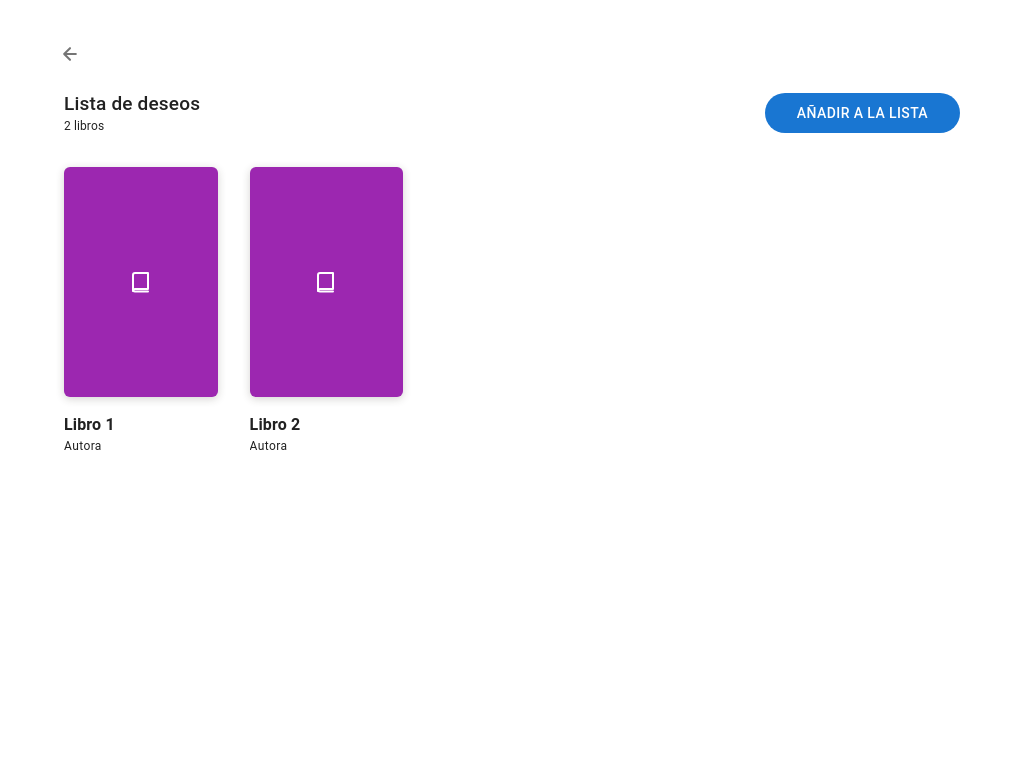
Given the wishlist page › When the user removes a book from the list › Then the sheet closes and a notice confirms it
Click the button with aria-label "Libro 1, Autora".
click(141, 312)  # box [64, 167, 218, 457]
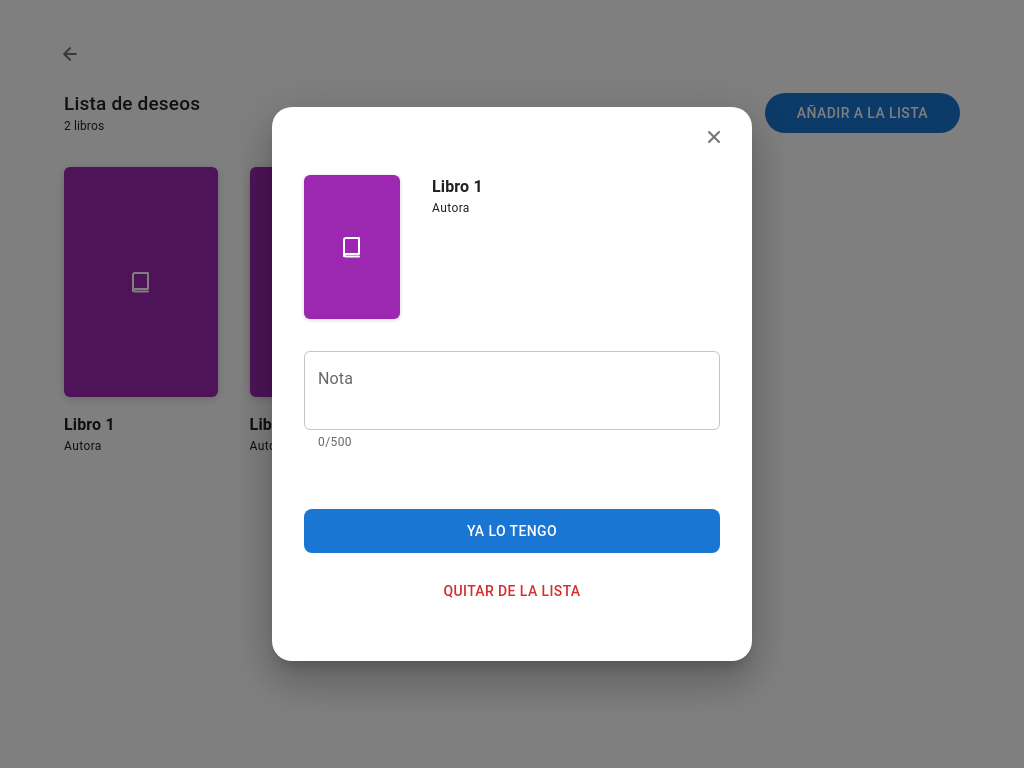
Click the button "Quitar de la lista".
click(512, 591)  # box [304, 569, 720, 613]
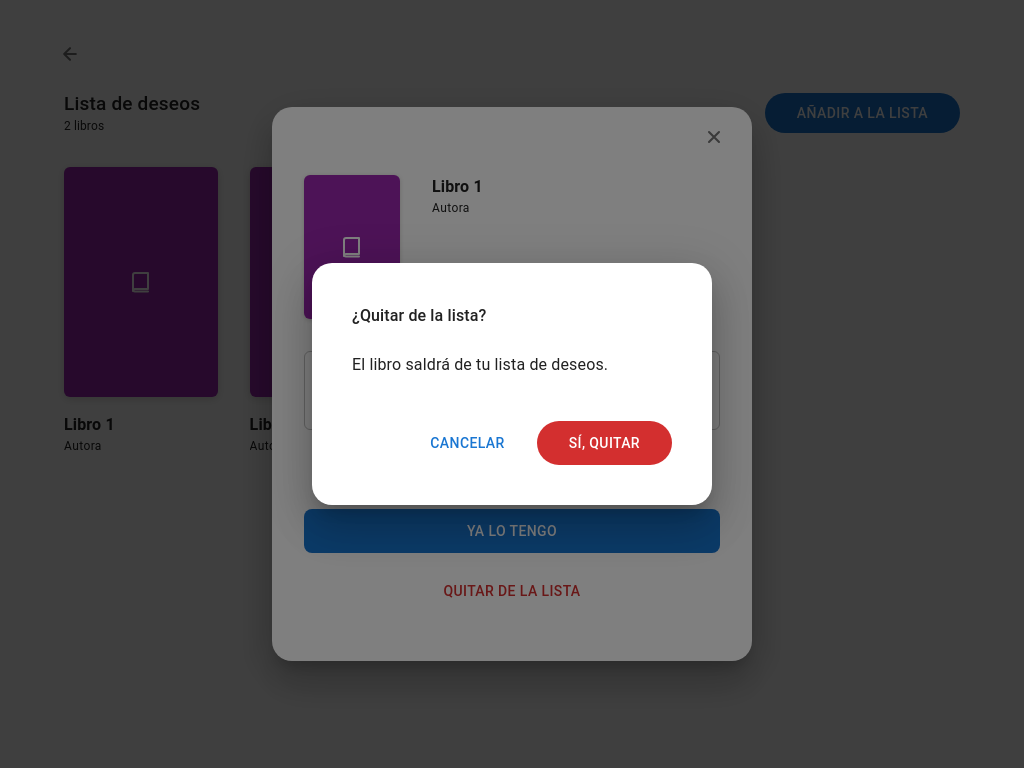
Click the button "Sí, quitar".
click(604, 443)  # box [537, 421, 672, 465]
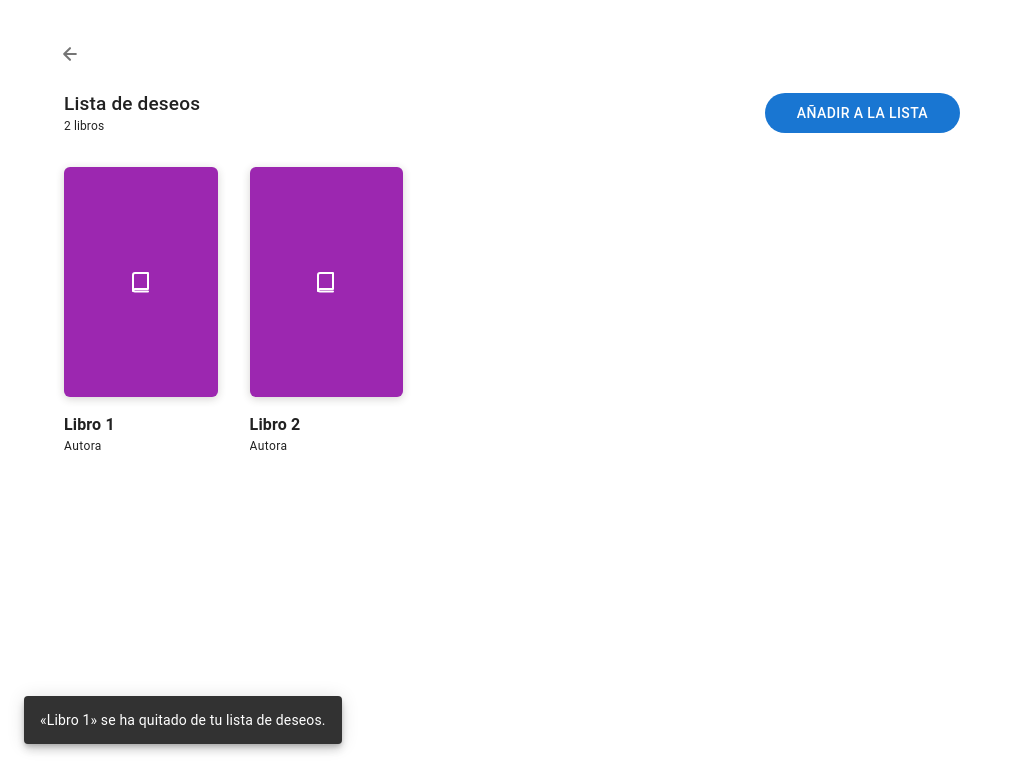
Now the text "«Libro 1» se ha quitado de tu lista de deseos." is shown, box [40, 712, 326, 728]
